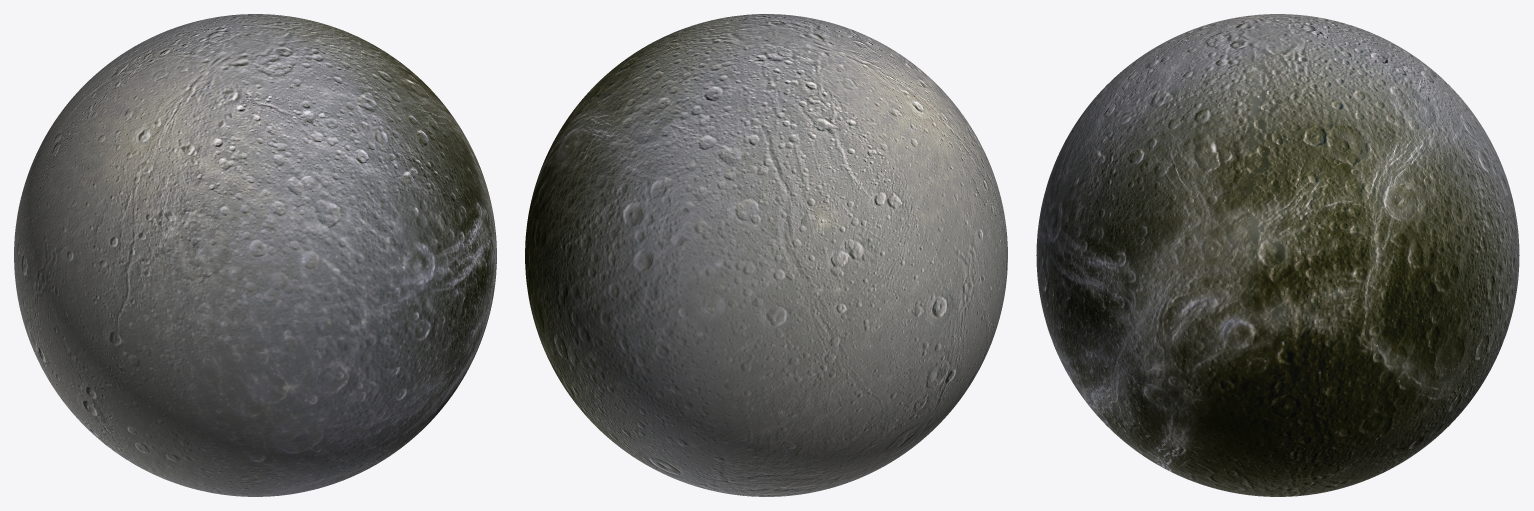
The model's file is dione.glb.
3 renders of one model, left to right at view 1: azimuth 30°, elevation 25°; view 2: azimuth 150°, elevation 25°; view 3: azimuth 270°, elevation 25°, orthographic.
Parts seen in each view (by area): view 1: dione_globe; view 2: dione_globe; view 3: dione_globe.
Boxes of the visible parts, x1=… form: dione_globe: x1=14, y1=14, x2=496, y2=496; dione_globe: x1=525, y1=14, x2=1007, y2=496; dione_globe: x1=1036, y1=14, x2=1519, y2=496.
Bounding box in the file's own units: 2 × 2 × 2.
Materials: 1 (1 with a texture image).
